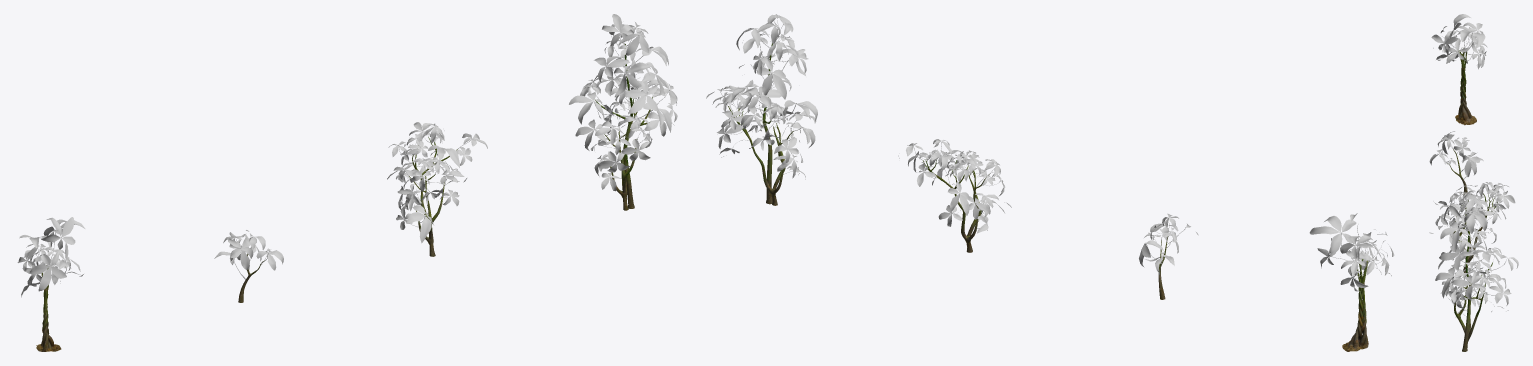
Rendered from pachira_aquatica_01.glb.
The picture shows the model from 3 angles, left to right: view 1: azimuth 30°, elevation 25°; view 2: azimuth 150°, elevation 25°; view 3: azimuth 270°, elevation 25°; orthographic projection. The views are drawn at different scales.
Bounding box in the file's own units: 6.87 × 1.9 × 0.997.
Materials: 2 (1 with a texture image).
